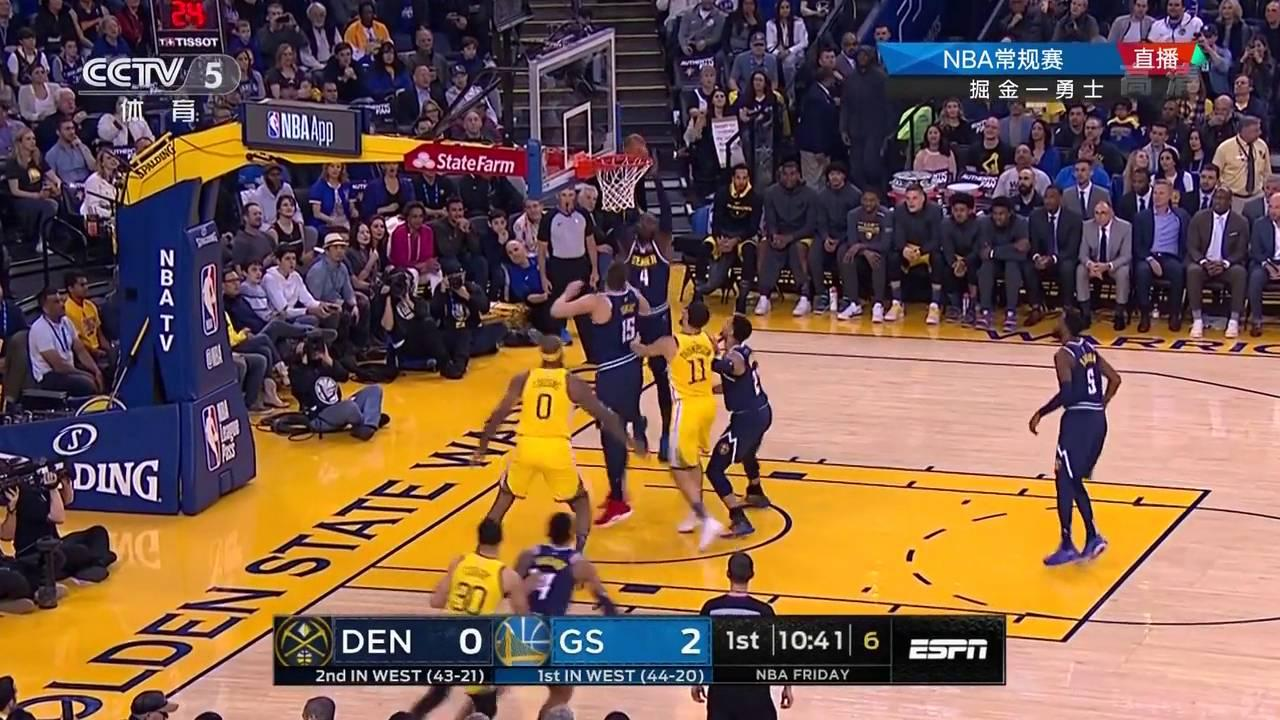basketball: (623, 133, 650, 160)
